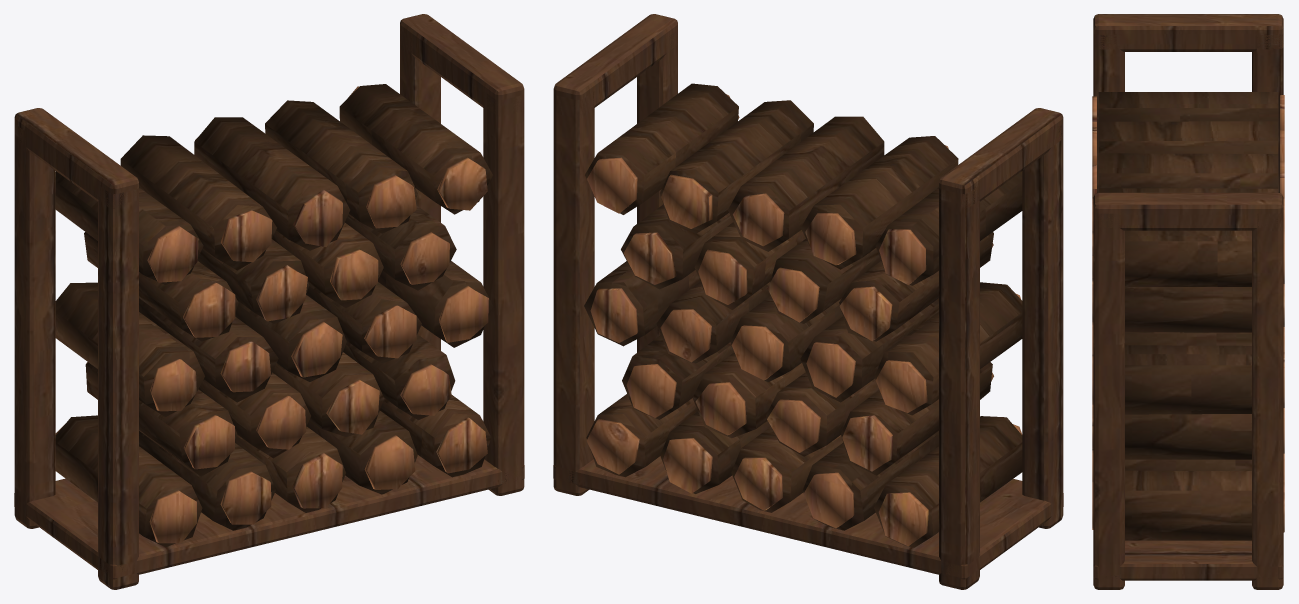
File: firewood_rack.glb
3 renders of one model, left to right at view 1: azimuth 30°, elevation 25°; view 2: azimuth 150°, elevation 25°; view 3: azimuth 270°, elevation 25°, orthographic. The views are drawn at different scales.
Visible parts, largest first — view 1: model; view 2: model; view 3: model.
Part boxes in pixels (x1=…): model: x1=14, y1=14, x2=524, y2=589; model: x1=553, y1=14, x2=1063, y2=589; model: x1=1092, y1=14, x2=1284, y2=589.
Size of the model in its own units: 0.86 by 0.81 by 0.364.
5 materials, 5 textured.
